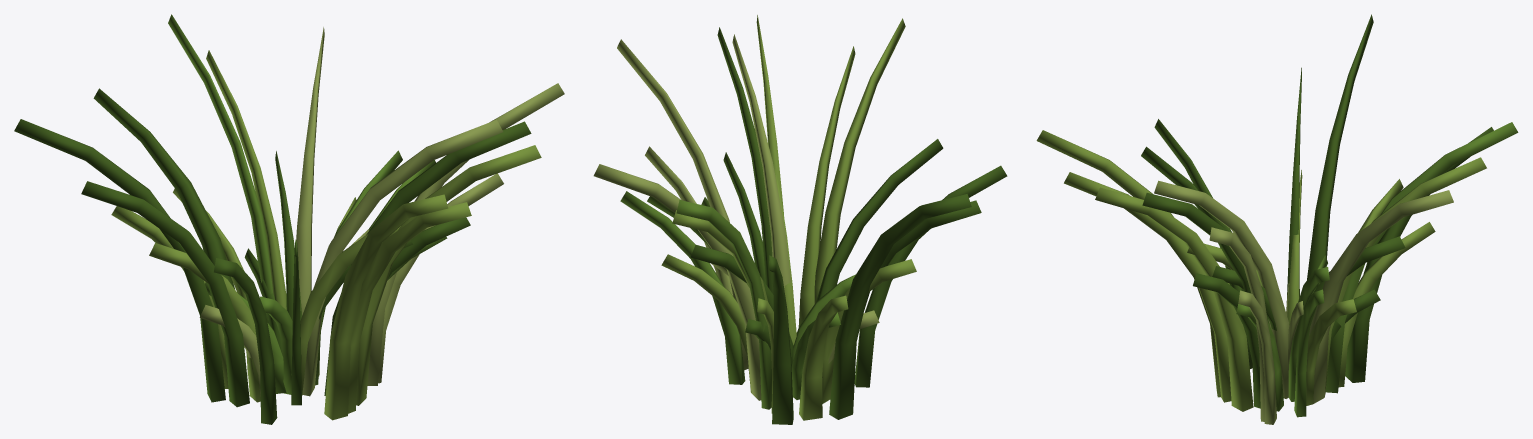
Rendered from forest-sedge.glb.
3 views of the same model, side by side, from view 1: azimuth 30°, elevation 25°; view 2: azimuth 150°, elevation 25°; view 3: azimuth 270°, elevation 25° (orthographic). The views are drawn at different scales.
Visible parts, largest first — view 1: forest-sedge/0; view 2: forest-sedge/0; view 3: forest-sedge/0.
Boxes of the visible parts, bbox=[...] form: forest-sedge/0: bbox=[14, 14, 564, 424]; forest-sedge/0: bbox=[593, 15, 1007, 424]; forest-sedge/0: bbox=[1036, 14, 1518, 424].
Bounding box in the file's own units: 1.14 × 0.6971 × 1.11.
